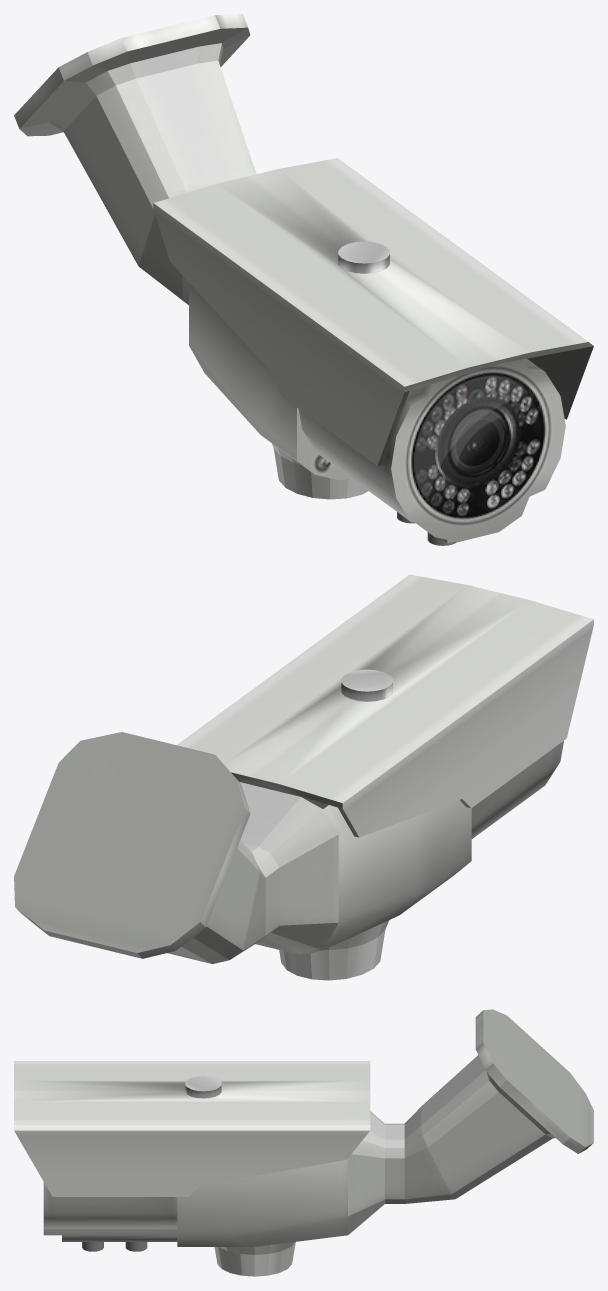
File: cctvNux6354r.gltf
The picture shows the model from 3 angles, top to bottom: view 1: azimuth 30°, elevation 25°; view 2: azimuth 150°, elevation 25°; view 3: azimuth 270°, elevation 25°; orthographic projection. The views are drawn at different scales.
Visible parts, largest first — view 1: cctvNux6354r001; view 2: cctvNux6354r001; view 3: cctvNux6354r001.
Boxes of the visible parts, x1=… form: cctvNux6354r001: x1=14, y1=14, x2=593, y2=545; cctvNux6354r001: x1=14, y1=574, x2=593, y2=980; cctvNux6354r001: x1=14, y1=1009, x2=593, y2=1276.
Size of the model in its own units: 0.8418 by 1.41 by 3.15.
Materials: 1 (1 with a texture image).
